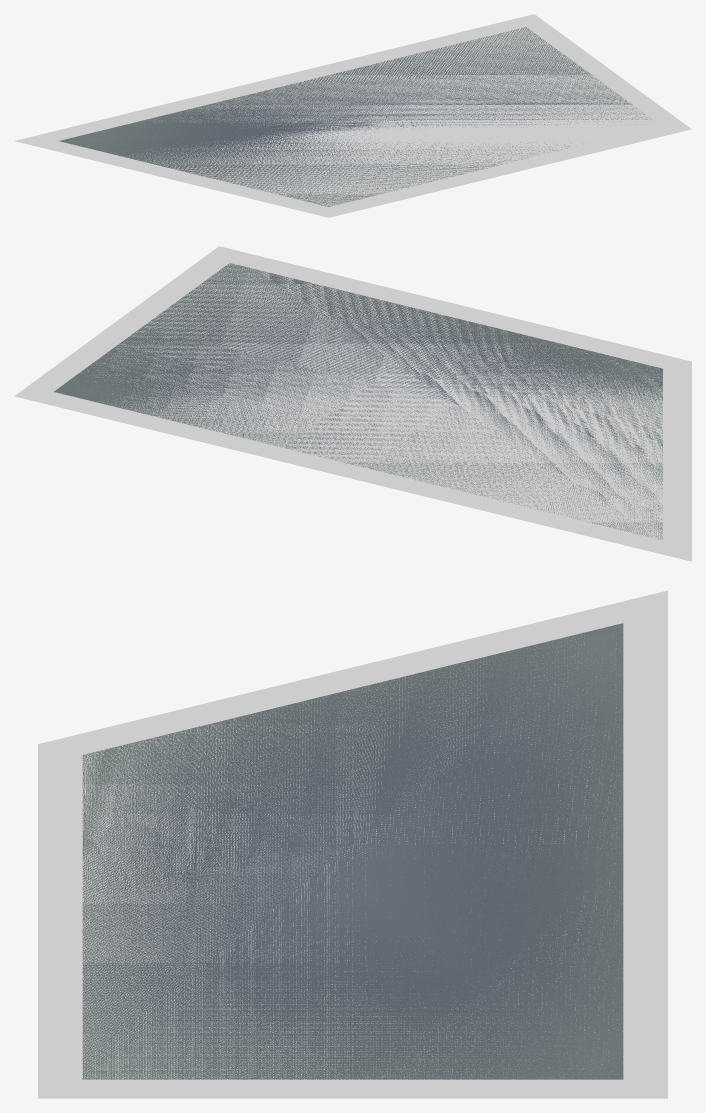
The model's file is pds-trap-out-left.glb.
3 renders of one model, top to bottom at view 1: azimuth 30°, elevation 25°; view 2: azimuth 150°, elevation 25°; view 3: azimuth 270°, elevation 25°, orthographic. The views are drawn at different scales.
Parts seen in each view (by area): view 1: PDS-trap-out-left-COL, PDS-trap-out-left; view 2: PDS-trap-out-left-COL, PDS-trap-out-left; view 3: PDS-trap-out-left, PDS-trap-out-left-COL.
Boxes of the visible parts, x1,y1,x2,y2 form: PDS-trap-out-left-COL: [14, 14, 691, 217]; PDS-trap-out-left: [59, 27, 651, 206]; PDS-trap-out-left-COL: [14, 246, 691, 561]; PDS-trap-out-left: [54, 263, 662, 539]; PDS-trap-out-left: [82, 623, 623, 1079]; PDS-trap-out-left-COL: [38, 590, 667, 1098].
Size of the model in its own units: 25.88 by 0.2076 by 13.56.
1 material, 1 textured.
